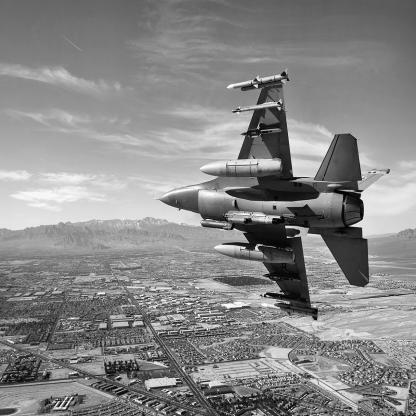F16: (155, 70, 391, 323)
